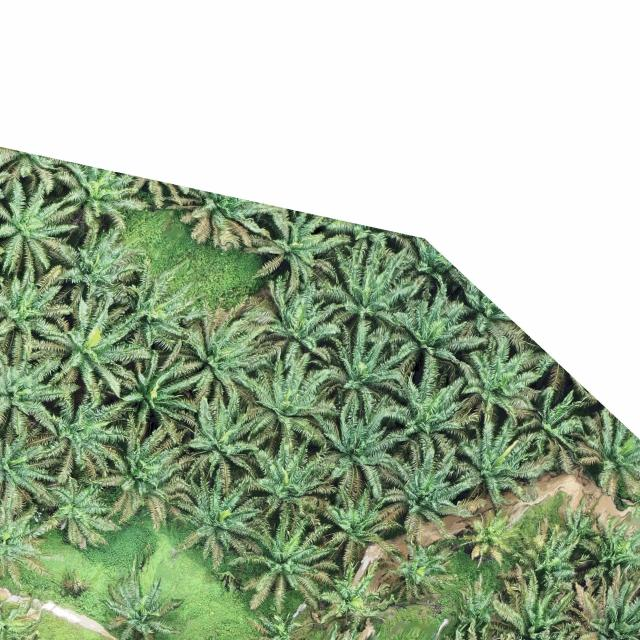Tree: (225, 506, 340, 615), (92, 412, 195, 533), (39, 293, 152, 400), (174, 296, 268, 403), (34, 390, 138, 480), (245, 348, 342, 444), (381, 443, 475, 539), (240, 438, 338, 527), (0, 179, 82, 284), (455, 416, 549, 507), (327, 316, 409, 419), (0, 341, 82, 441), (118, 258, 209, 348), (182, 396, 273, 485), (170, 470, 258, 561), (98, 549, 186, 640), (394, 370, 480, 460), (262, 274, 341, 371), (316, 244, 416, 319), (313, 476, 399, 560), (56, 225, 148, 301), (394, 289, 478, 372), (324, 414, 399, 504), (37, 473, 122, 549), (114, 351, 198, 423), (318, 549, 389, 633), (484, 576, 576, 640), (0, 264, 75, 342), (459, 346, 539, 416), (0, 502, 58, 590), (0, 426, 57, 514), (384, 536, 454, 602), (516, 388, 583, 455), (568, 579, 640, 640), (577, 513, 640, 581), (525, 516, 582, 580), (458, 510, 521, 564), (250, 603, 311, 640), (0, 597, 40, 640), (561, 506, 603, 542)
